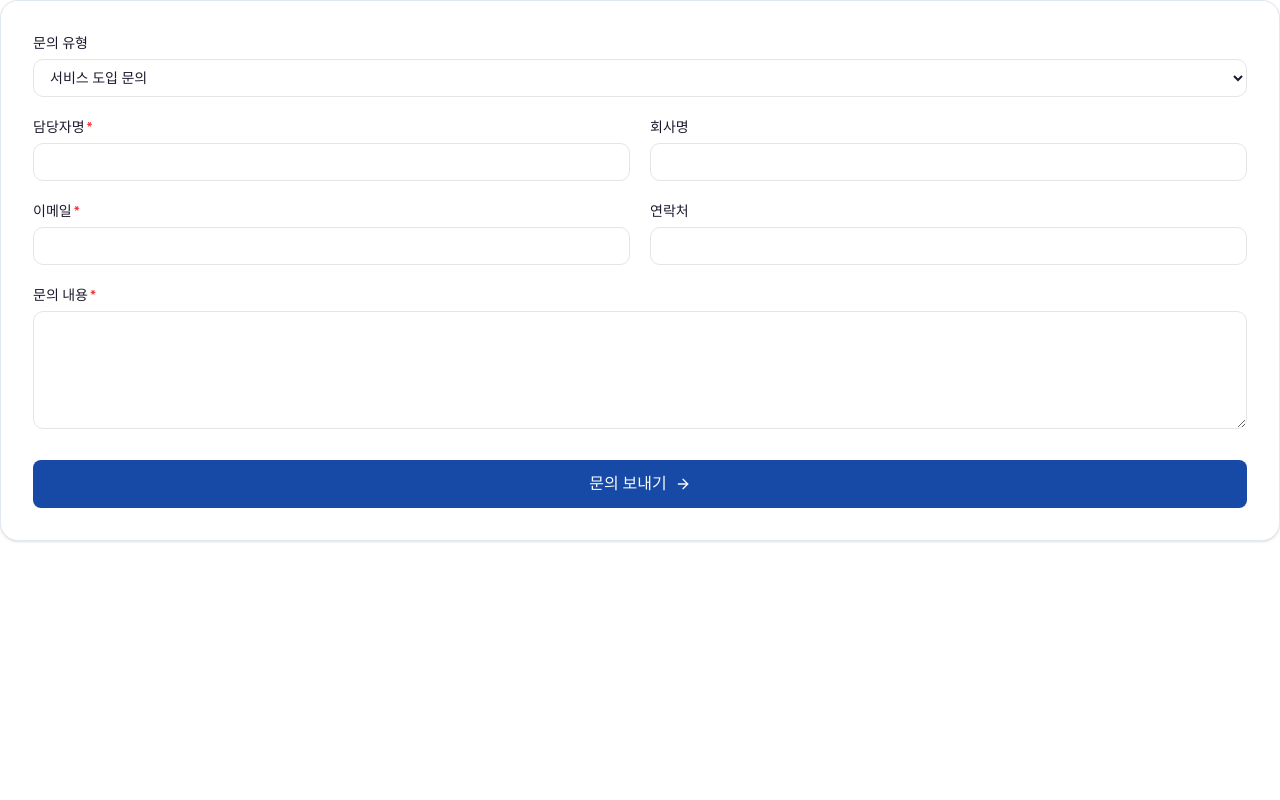
Test: ContactForm › shows an error message when the send fails
Type "서동구" into the field labelled "담당자명*".
click(332, 162); type("서동구")  # box [33,143,630,181]
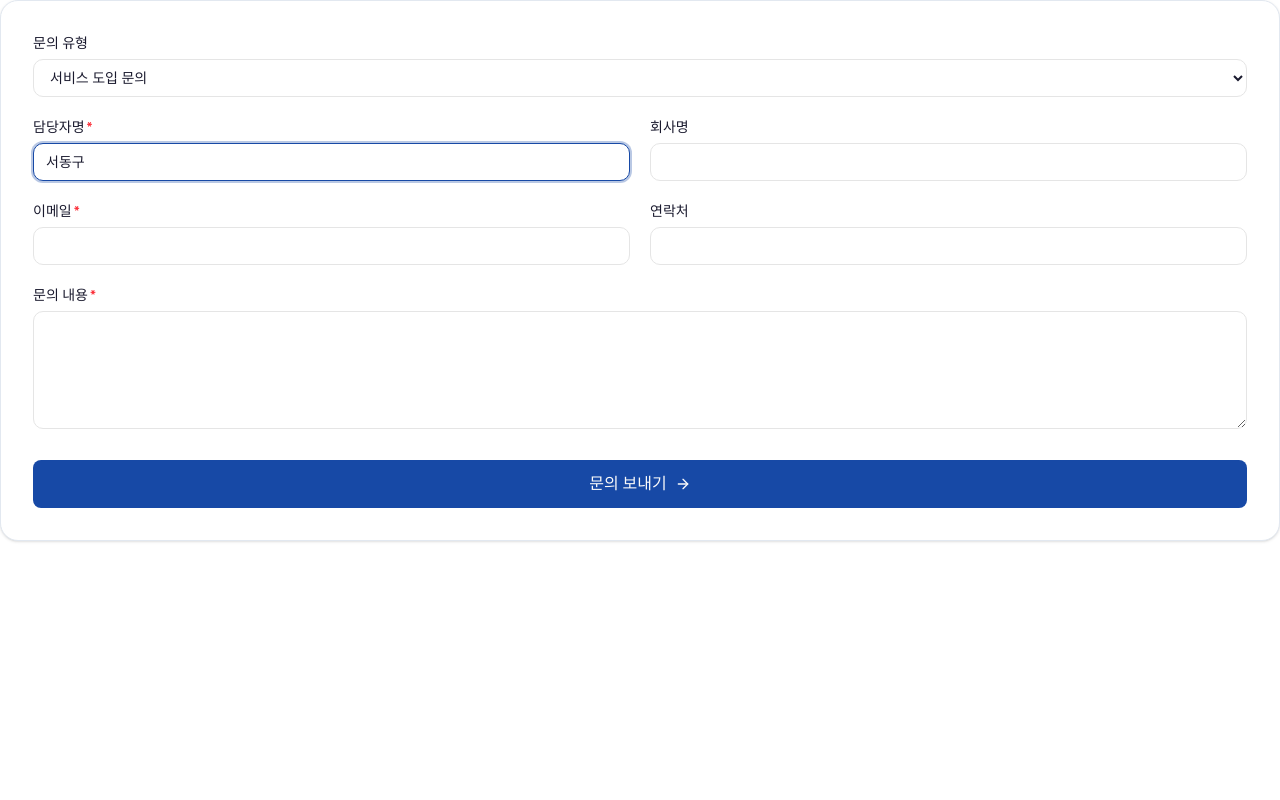
Type "a@b.com" into the field labelled "이메일*".
click(332, 246); type("a@b.com")  # box [33,227,630,265]
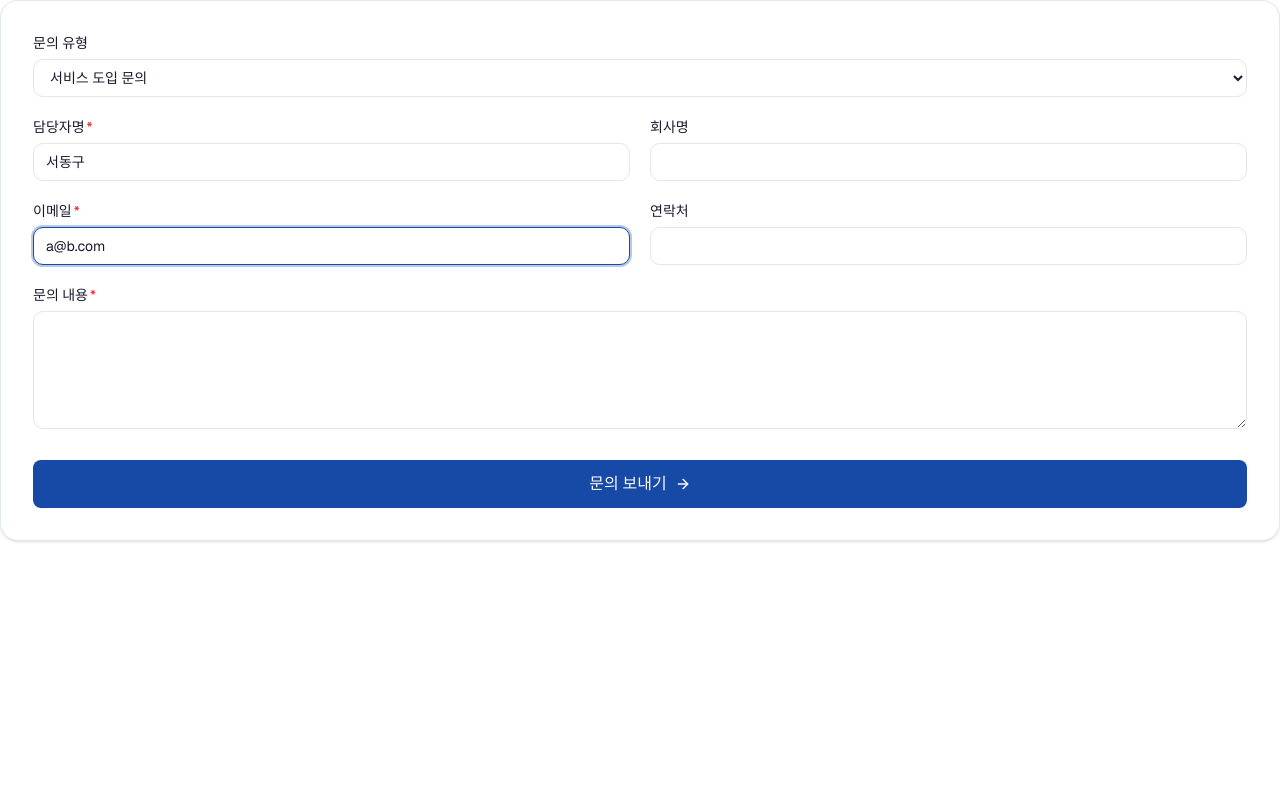
Type "문의 드립니다." into the text box labelled "문의 내용*".
click(640, 370); type("문의 드립니다.")  # box [33,311,1247,429]
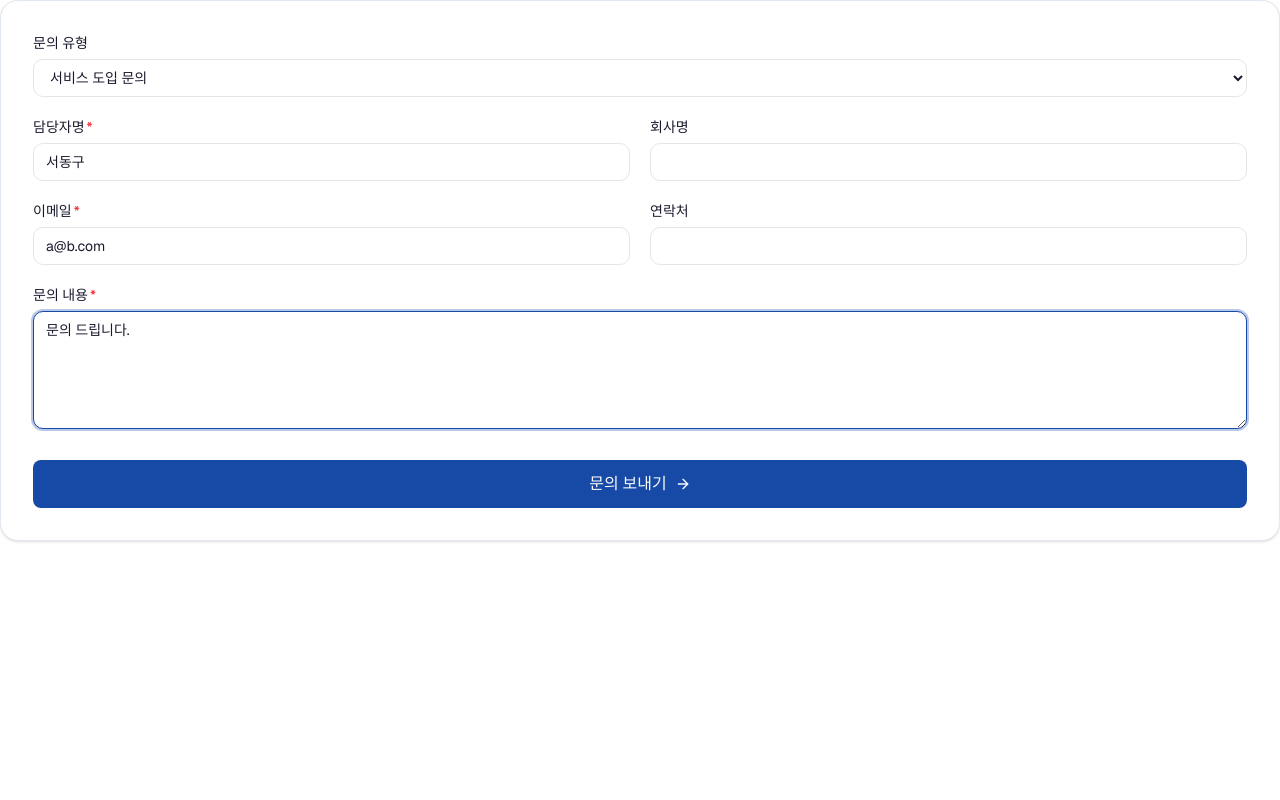
Click the button "문의 보내기".
click(640, 484)  # box [33,460,1247,508]
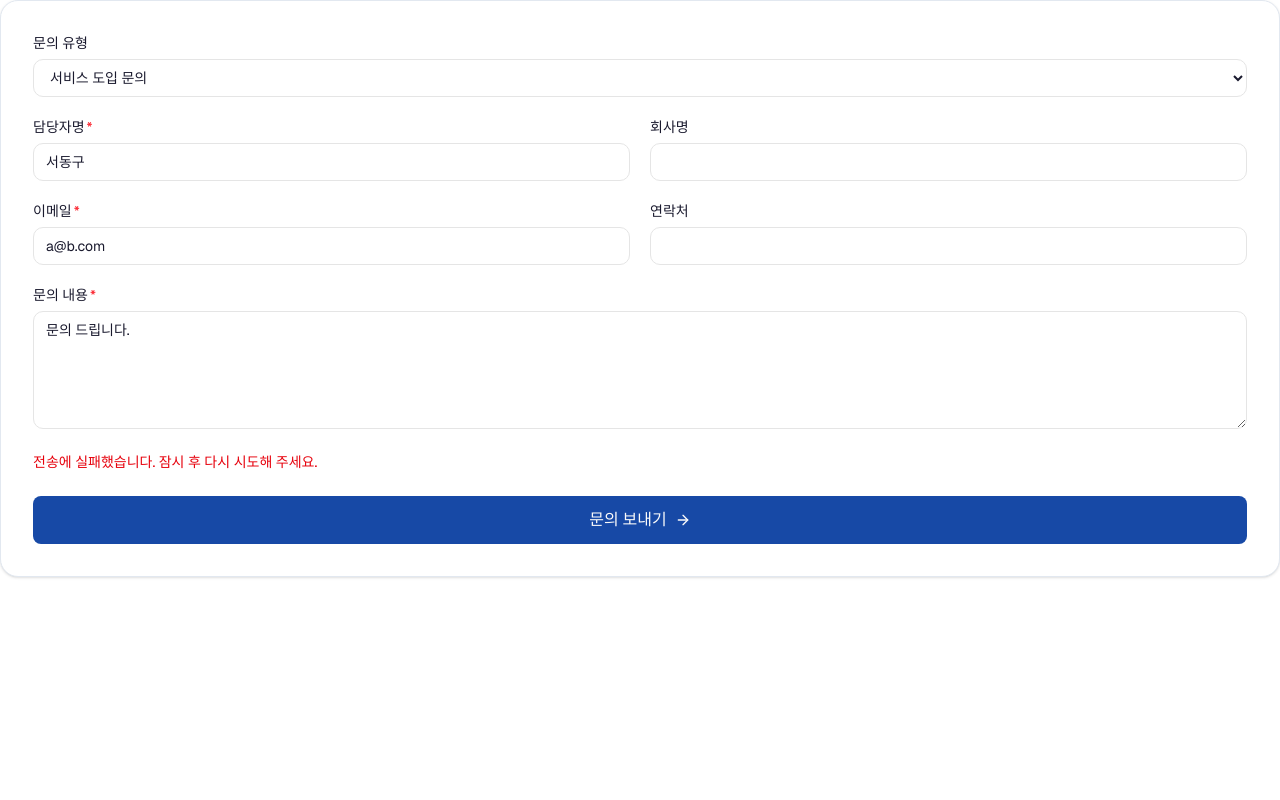
Expected: the message shows "전송에 실패", [33,453,317,471]
